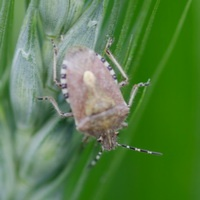insect: (61, 47, 148, 149)
